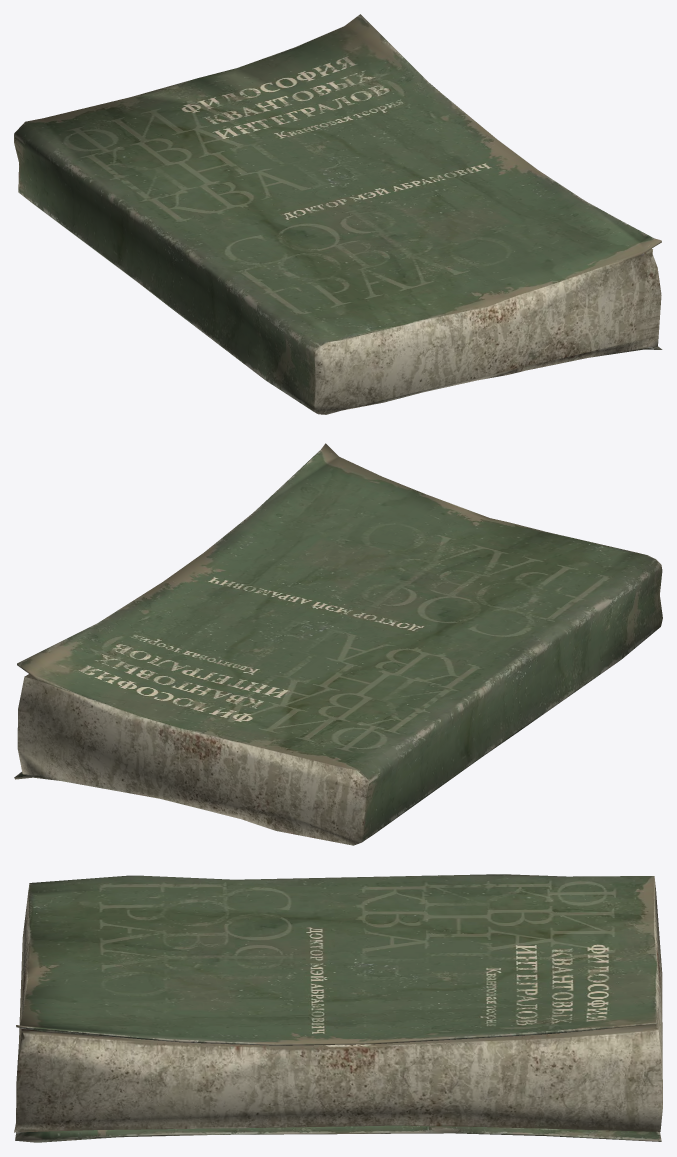
Rendered from book_quantum_integrals.glb.
The picture shows the model from 3 angles, top to bottom: view 1: azimuth 30°, elevation 25°; view 2: azimuth 150°, elevation 25°; view 3: azimuth 270°, elevation 25°; orthographic projection. The views are drawn at different scales.
Parts seen in each view (by area): view 1: Physics_Book; view 2: Physics_Book; view 3: Physics_Book.
Part boxes in pixels (bbox=[...]): Physics_Book: bbox=[14, 14, 662, 414]; Physics_Book: bbox=[14, 443, 662, 845]; Physics_Book: bbox=[14, 874, 662, 1142].
Size of the model in its own units: 5.6 by 1.76 by 8.57.
1 material, 1 textured.
